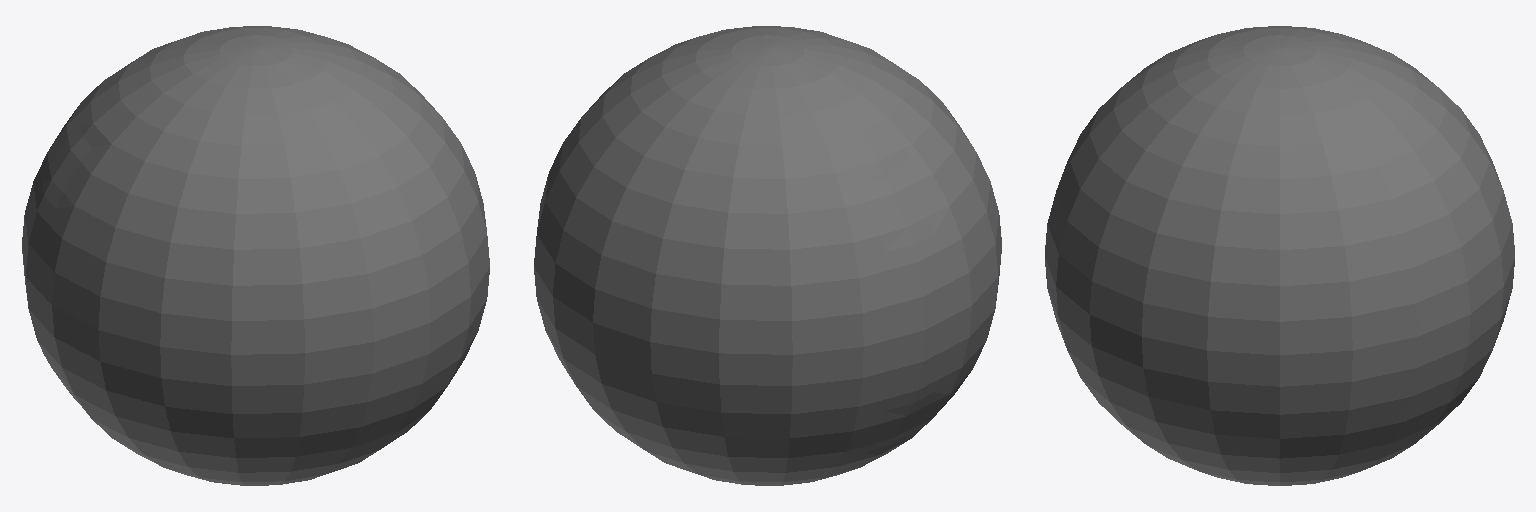
Rendered from Jupiter.obj.
3 renders of one model, left to right at view 1: azimuth 30°, elevation 25°; view 2: azimuth 150°, elevation 25°; view 3: azimuth 270°, elevation 25°, orthographic.
Visible parts, largest first — view 1: Jupiter; view 2: Jupiter; view 3: Jupiter.
Part boxes in pixels (x1,y1,x2,y2): Jupiter: (22, 26, 489, 485); Jupiter: (534, 26, 1001, 485); Jupiter: (1045, 26, 1514, 485).
Size of the model in its own units: 281 by 273 by 281.